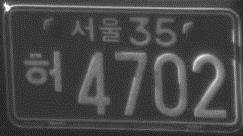0: (151, 52, 188, 117)
2: (192, 53, 228, 120)
3: (127, 15, 152, 48)
4: (76, 52, 113, 116)
5: (152, 16, 177, 48)
7: (112, 50, 147, 117)
서울_O: (69, 16, 123, 44)
허: (22, 48, 64, 93)
